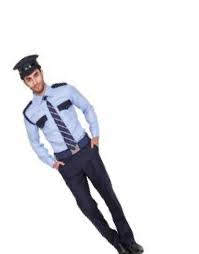uniform: (11, 55, 143, 242)
